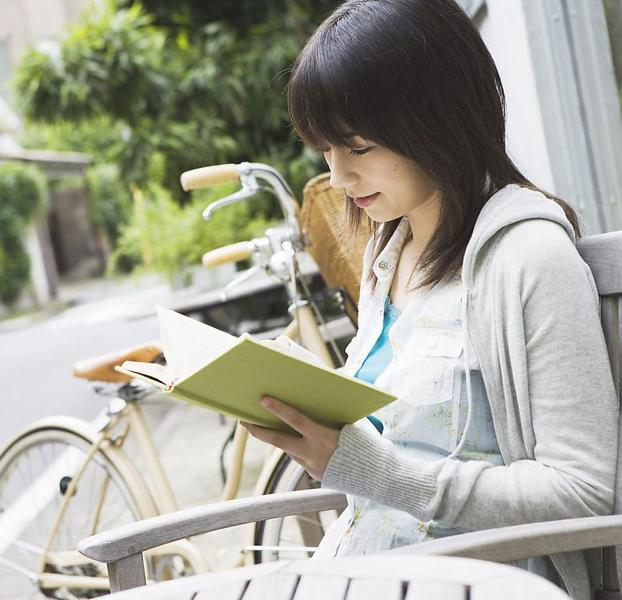person: (241, 3, 619, 600)
